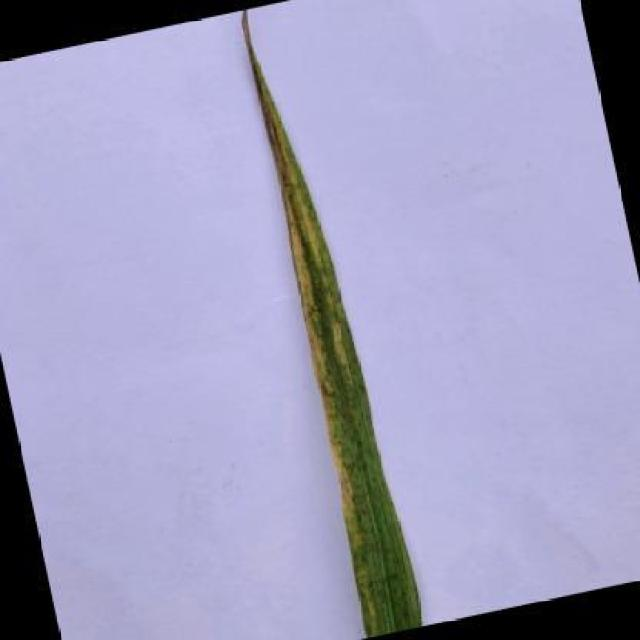Rice False Smut: (233, 0, 426, 635)
